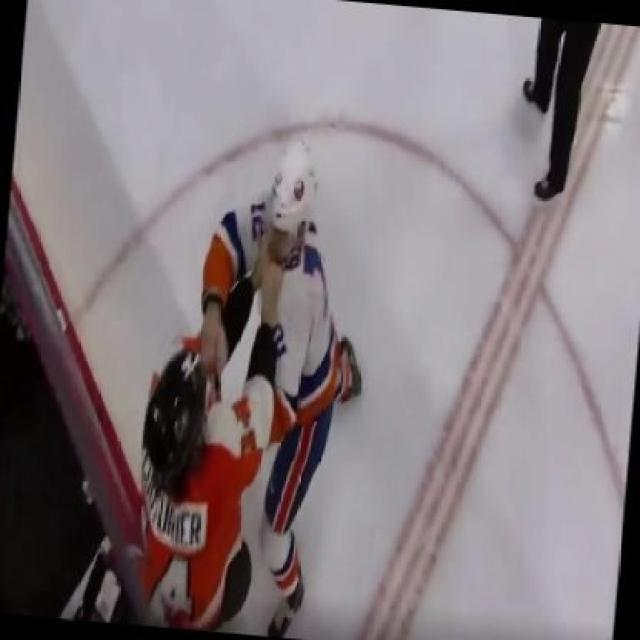fight: (80, 134, 408, 638)
